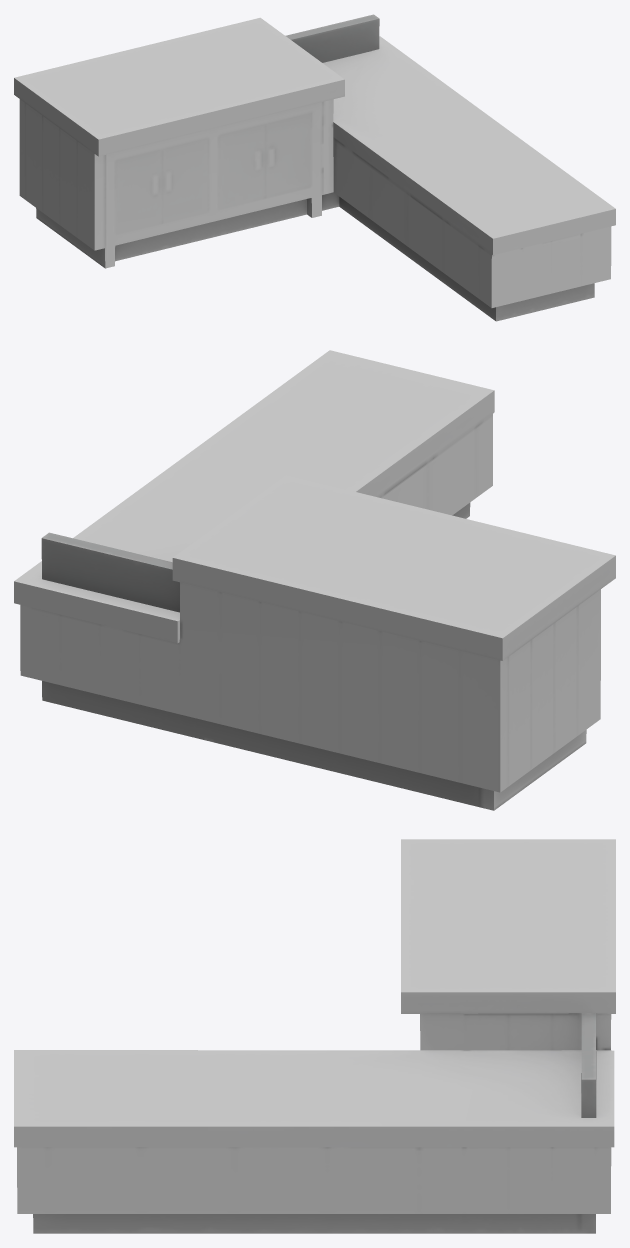
File: Pfb_Shop_Counter__5.fbx
The picture shows the model from 3 angles, top to bottom: view 1: azimuth 30°, elevation 25°; view 2: azimuth 150°, elevation 25°; view 3: azimuth 270°, elevation 25°; orthographic projection. The views are drawn at different scales.
Visible parts, largest first — view 1: Mat_Shop_Counter_01_JLAB; view 2: Mat_Shop_Counter_01_JLAB; view 3: Mat_Shop_Counter_01_JLAB.
Boxes of the visible parts, <box> form: Mat_Shop_Counter_01_JLAB: <box>14,14,615,321</box>; Mat_Shop_Counter_01_JLAB: <box>14,350,615,810</box>; Mat_Shop_Counter_01_JLAB: <box>14,839,615,1233</box>.
Size of the model in its own units: 1.84 by 0.665 by 2.06.
1 material, 1 textured.
